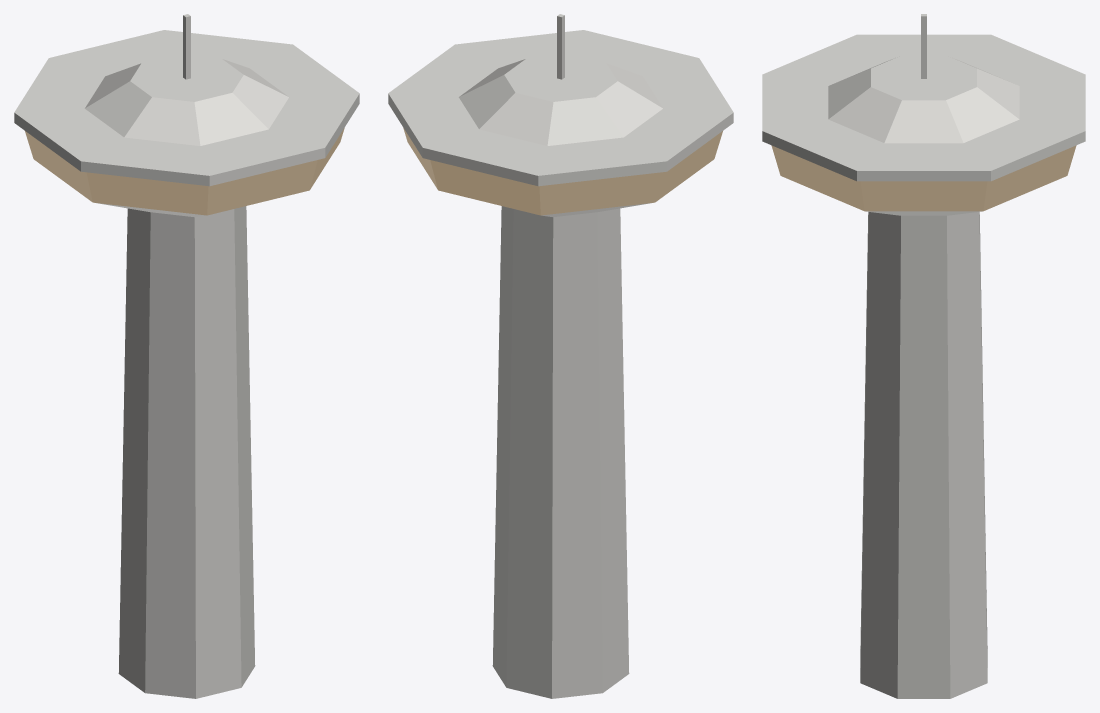
Rendered from yas_tower.glb.
3 views of the same model, side by side, from view 1: azimuth 30°, elevation 25°; view 2: azimuth 150°, elevation 25°; view 3: azimuth 270°, elevation 25° (orthographic).
Visible parts, largest first — view 1: yas-shams-tower; view 2: yas-shams-tower; view 3: yas-shams-tower.
Part boxes in pixels (bbox=[...]): yas-shams-tower: bbox=[14, 14, 359, 698]; yas-shams-tower: bbox=[388, 14, 733, 698]; yas-shams-tower: bbox=[762, 14, 1085, 698].
Size of the model in its own units: 28.09 by 63 by 28.09.
